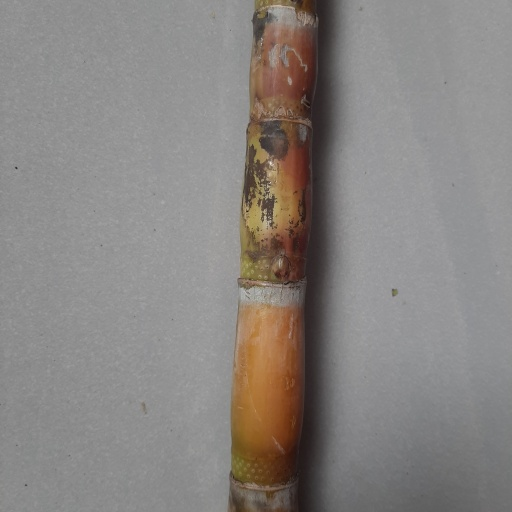Bud: (269, 254, 292, 283)
